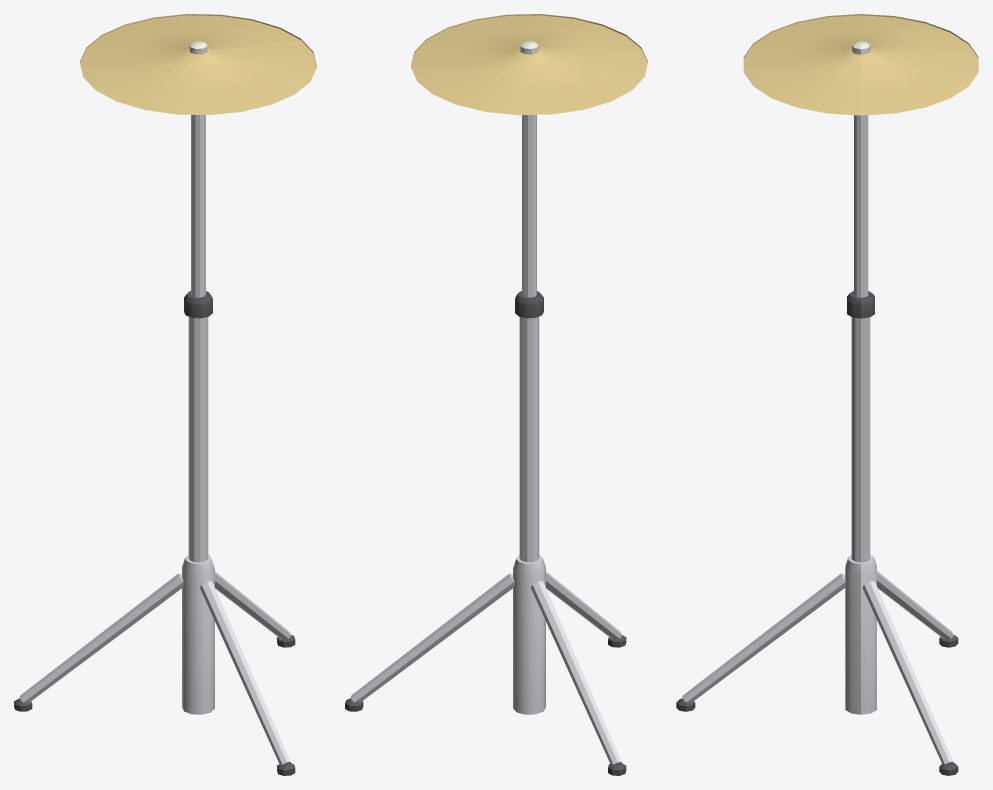
File: crash-stand.glb
3 views of the same model, side by side, from view 1: azimuth 30°, elevation 25°; view 2: azimuth 150°, elevation 25°; view 3: azimuth 270°, elevation 25° (orthographic).
Parts seen in each view (by area): view 1: cymbal-on-stand, cymbal/brass; view 2: cymbal-on-stand, cymbal/brass; view 3: cymbal-on-stand, cymbal/brass.
Part boxes in pixels (x1=…): cymbal-on-stand: x1=14, y1=115, x2=295, y2=775; cymbal/brass: x1=80, y1=14, x2=316, y2=115; cymbal-on-stand: x1=345, y1=115, x2=626, y2=775; cymbal/brass: x1=411, y1=14, x2=647, y2=115; cymbal-on-stand: x1=676, y1=115, x2=958, y2=775; cymbal/brass: x1=743, y1=14, x2=978, y2=115.
Size of the model in its own units: 0.6253 by 1.42 by 0.5859.
